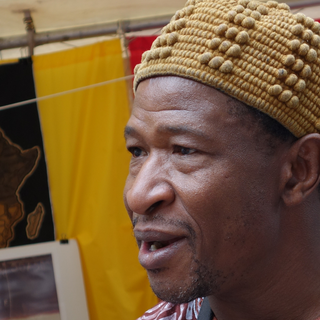eye: (165, 138, 208, 164), (118, 139, 155, 163)
